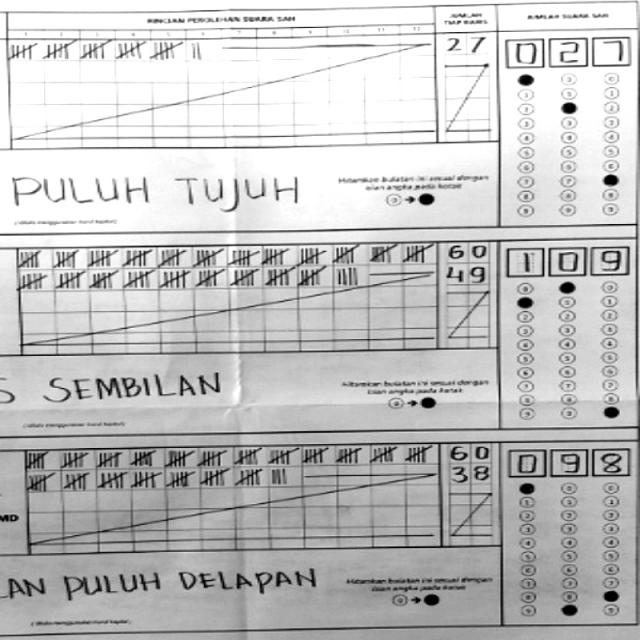Suara: (501, 32, 632, 71), (500, 242, 630, 278), (500, 444, 630, 478)
